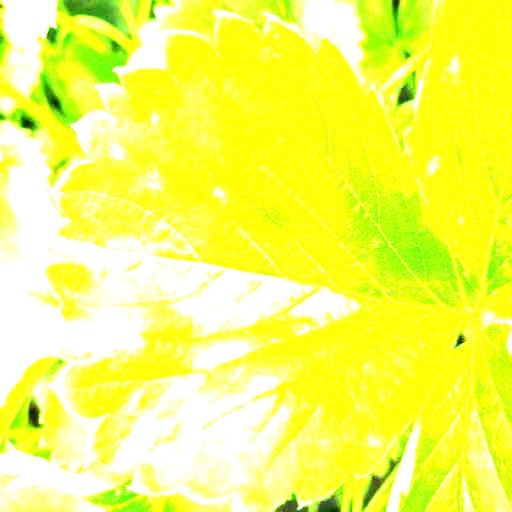Powdery Mildew Leaf: (35, 9, 470, 511)
